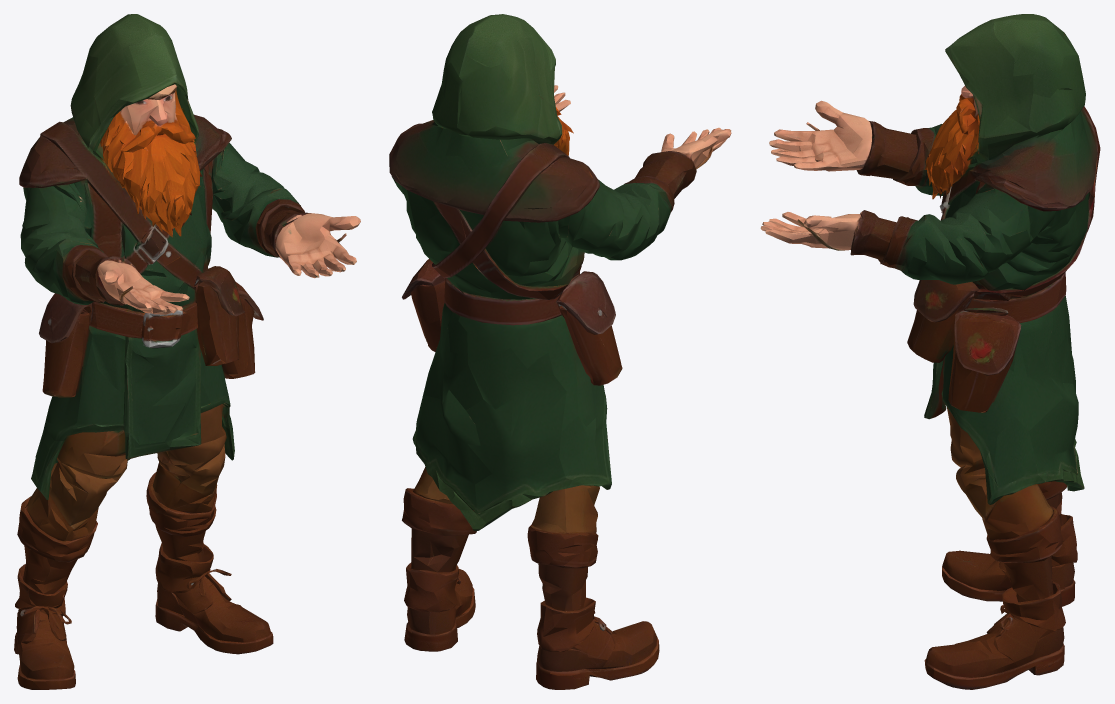
Rendered from bramble.glb.
3 views of the same model, side by side, from view 1: azimuth 30°, elevation 25°; view 2: azimuth 150°, elevation 25°; view 3: azimuth 270°, elevation 25° (orthographic).
Size of the model in its own units: 0.8162 by 1.9 by 0.9356.
1 material, 1 textured.
